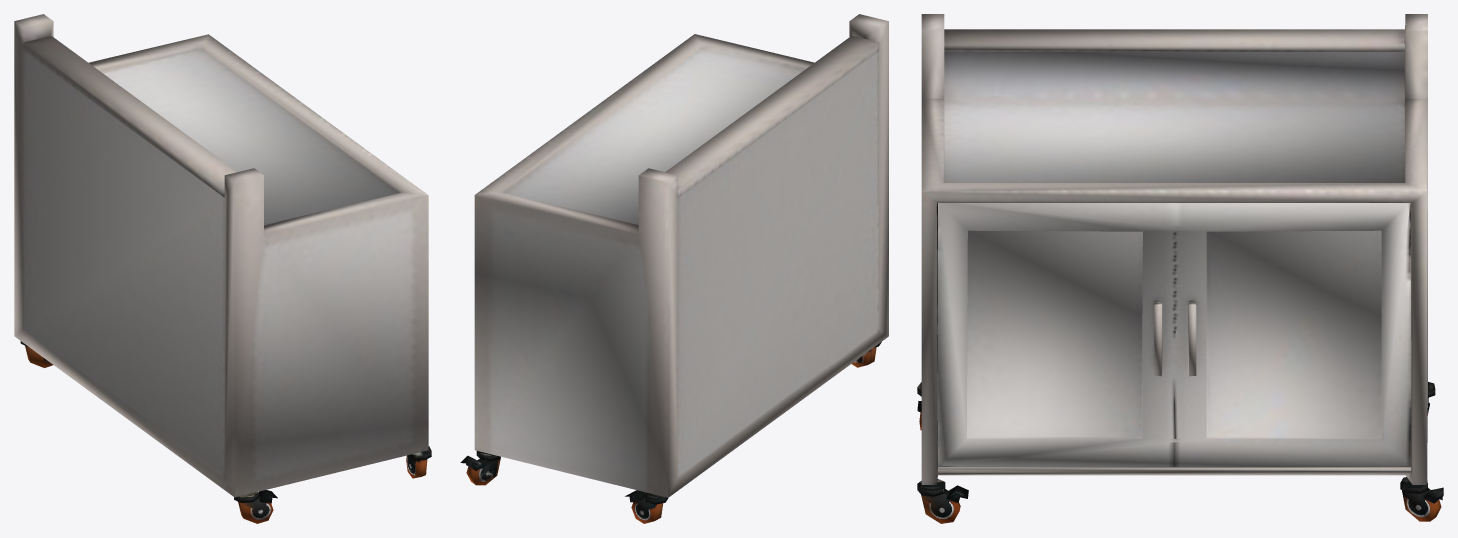
File: tripo_convert_521c4252-c23f-4560-88e6-da8a27398ad0.fbx
The picture shows the model from 3 angles, left to right: view 1: azimuth 30°, elevation 25°; view 2: azimuth 150°, elevation 25°; view 3: azimuth 270°, elevation 25°; orthographic projection. The views are drawn at different scales.
Parts seen in each view (by area): view 1: tripo_node_521c4252; view 2: tripo_node_521c4252; view 3: tripo_node_521c4252.
Boxes of the visible parts, x1=… form: tripo_node_521c4252: x1=14, y1=14, x2=431, y2=523; tripo_node_521c4252: x1=460, y1=14, x2=888, y2=523; tripo_node_521c4252: x1=917, y1=14, x2=1443, y2=523.
Bounding box in the file's own units: 0.5098 × 0.8379 × 0.998.
1 material, 1 textured.
